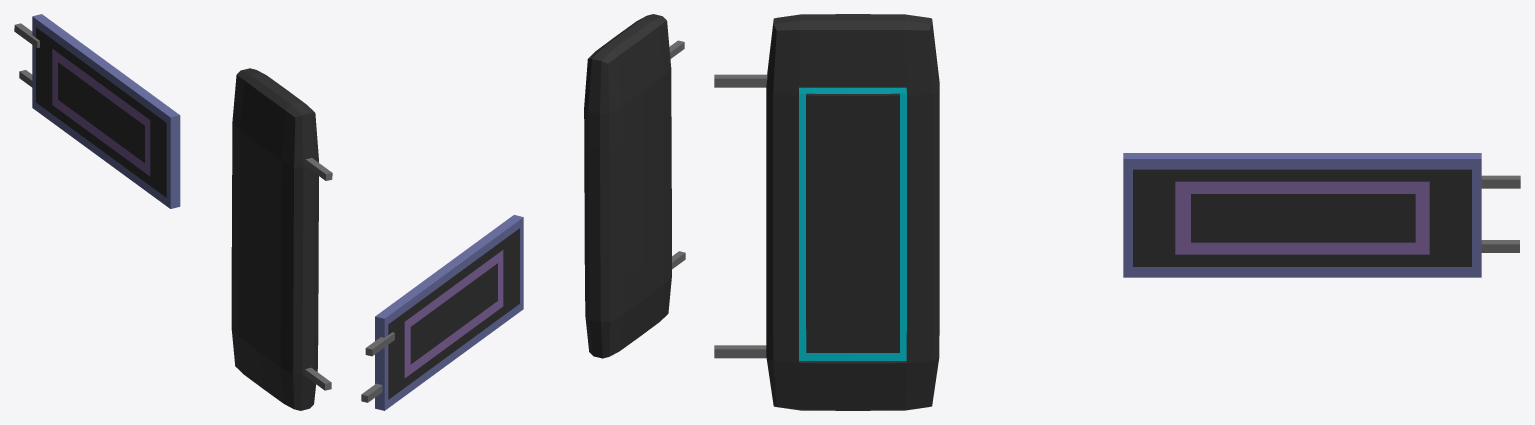
File: NeonSigns.fbx
3 views of the same model, side by side, from view 1: azimuth 30°, elevation 25°; view 2: azimuth 150°, elevation 25°; view 3: azimuth 270°, elevation 25° (orthographic). The views are drawn at different scales.
Visible parts, largest first — view 1: pCube45, pCube48, pCube46, pCube47, pCube49; view 2: pCube45, pCube48, pCube49; view 3: pCube45, pCube48, pCube46, pCube47.
Boxes of the visible parts, left/top/right/bottom form: pCube45: left=231, top=68, right=318, bottom=410; pCube48: left=32, top=14, right=180, bottom=208; pCube46: left=305, top=158, right=332, bottom=180; pCube47: left=304, top=367, right=331, bottom=390; pCube49: left=14, top=23, right=39, bottom=48; pCube45: left=584, top=14, right=671, bottom=358; pCube48: left=375, top=215, right=523, bottom=410; pCube49: left=365, top=332, right=394, bottom=356; pCube45: left=766, top=14, right=939, bottom=410; pCube48: left=1123, top=153, right=1481, bottom=277; pCube46: left=714, top=74, right=767, bottom=87; pCube47: left=714, top=345, right=766, bottom=358.
Bounding box in the file's own units: 0.3604 × 3.3 × 6.16.
